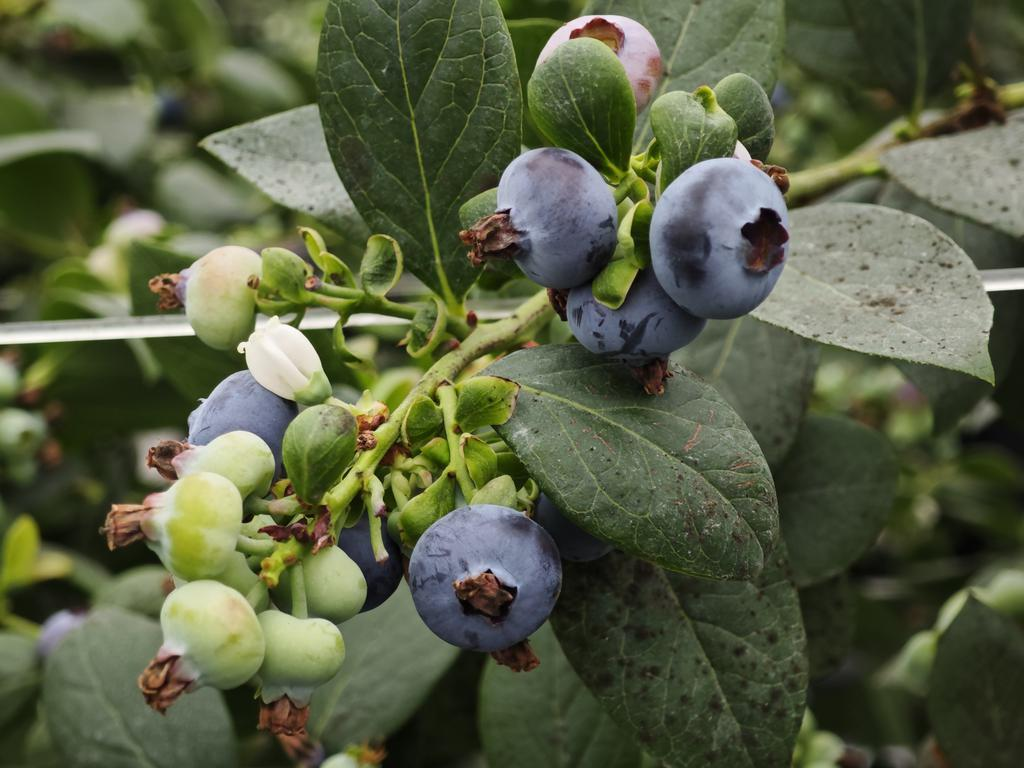RipeBlueBerry: (650, 154, 789, 321), (410, 507, 563, 650), (484, 148, 618, 291)
UnripeBlueBerry: (147, 579, 264, 698), (160, 249, 262, 348)
